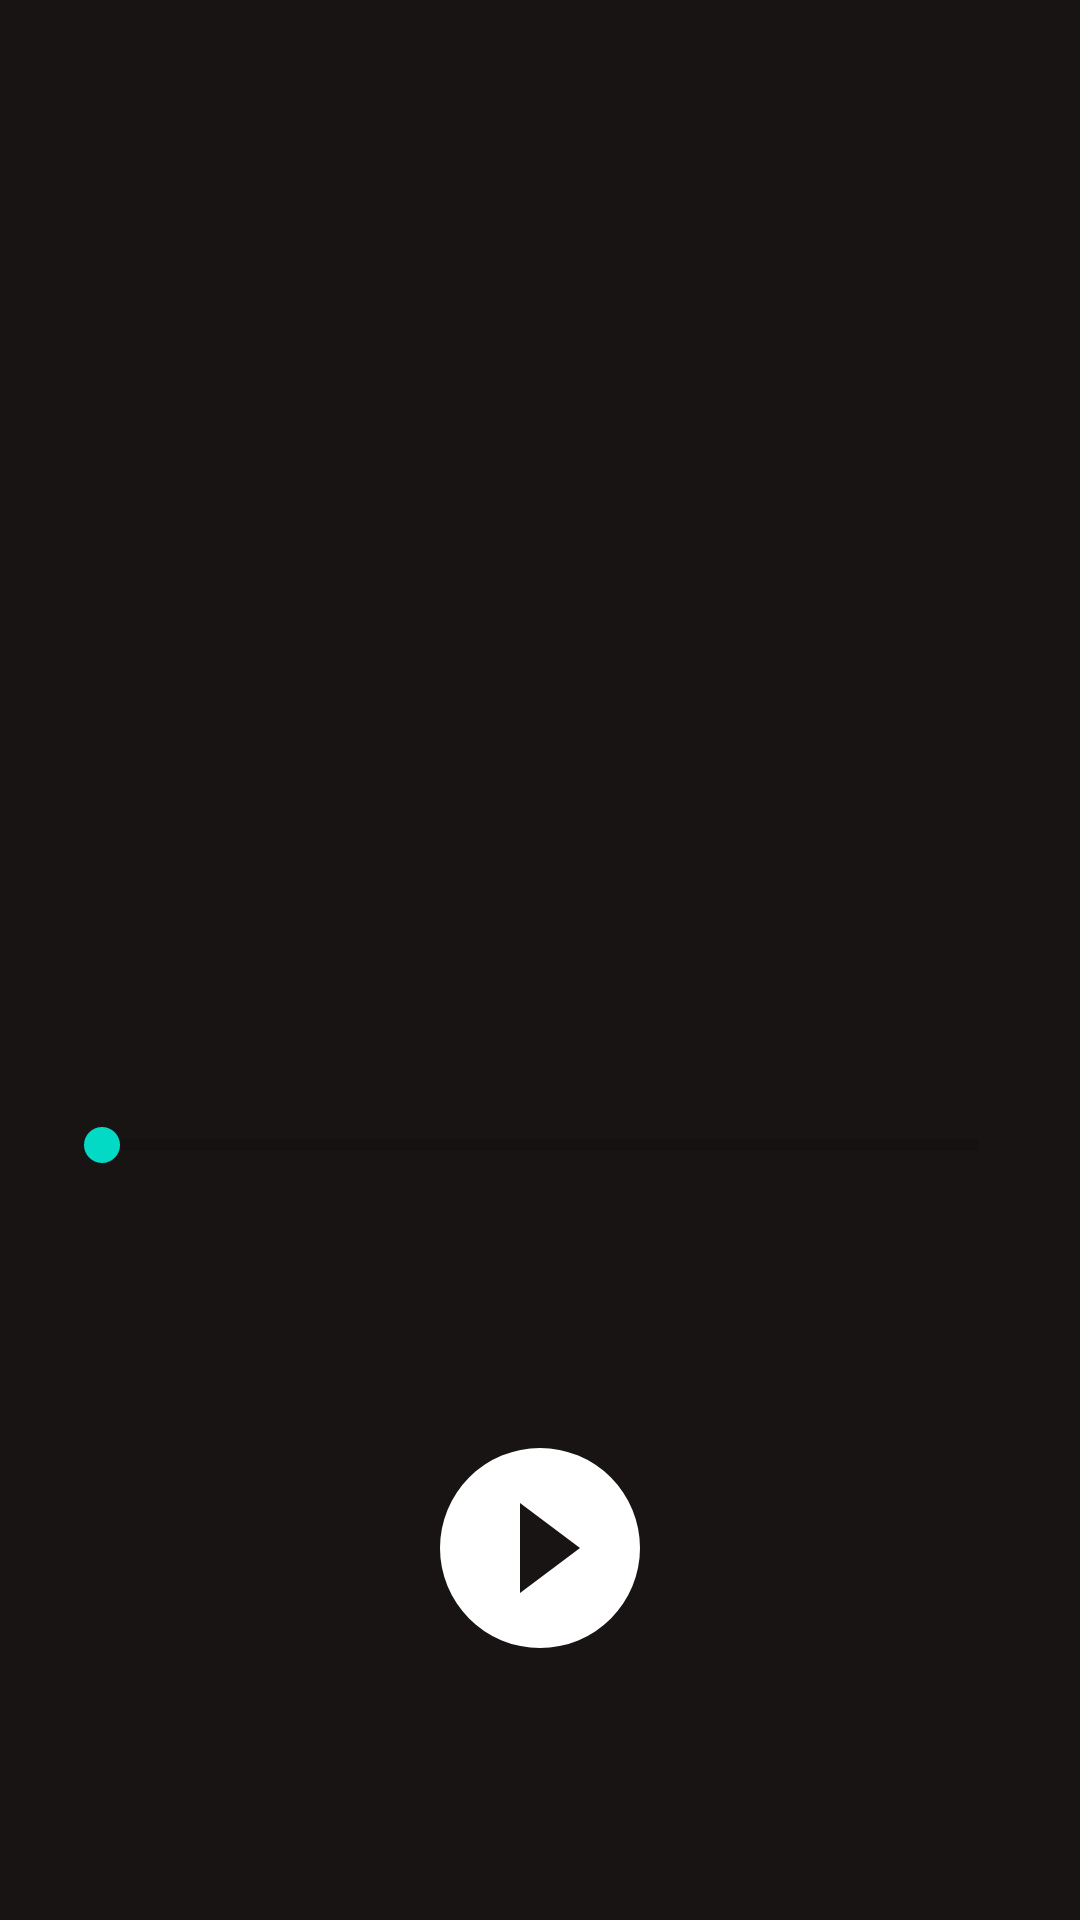

Where icons sit on this 1080×1920 app screen, as {"left": x1, "top": y1, "right": x2, "bottom": y2}:
play circle: {"left": 440, "top": 1448, "right": 640, "bottom": 1648}
